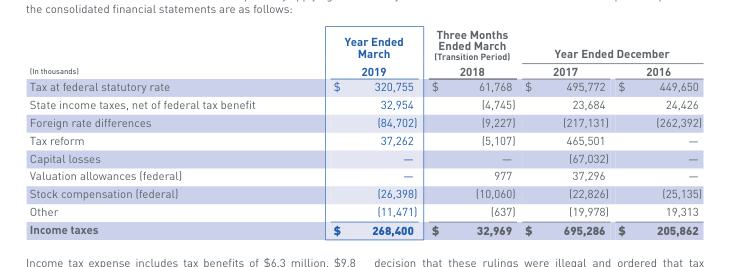table: (28, 28, 701, 236)
table column: (28, 28, 293, 236), (293, 28, 423, 236), (423, 28, 519, 236), (519, 28, 612, 236), (612, 28, 701, 236)
table column header: (28, 28, 701, 79)
table row: (28, 28, 701, 62), (28, 95, 701, 113), (28, 113, 701, 131), (28, 131, 701, 149), (28, 149, 701, 167), (28, 167, 701, 185), (28, 185, 701, 203), (28, 203, 701, 221), (28, 62, 701, 79), (28, 79, 701, 95), (28, 221, 701, 236)
table spanning cell: (28, 28, 293, 79), (293, 28, 423, 79), (519, 28, 701, 62), (423, 28, 519, 79)
